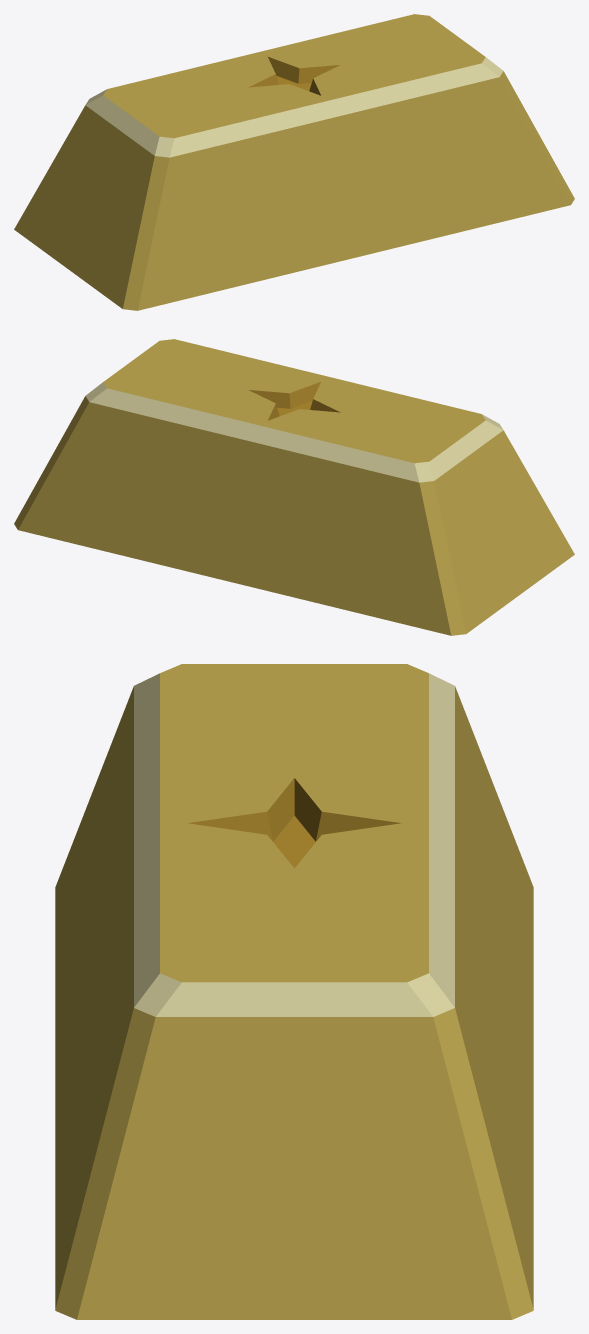
The model's file is gold-ingot-85e62e.glb.
The picture shows the model from 3 angles, top to bottom: view 1: azimuth 30°, elevation 25°; view 2: azimuth 150°, elevation 25°; view 3: azimuth 270°, elevation 25°; orthographic projection. The views are drawn at different scales.
Visible parts, largest first — view 1: ingot; view 2: ingot; view 3: ingot.
Boxes of the visible parts, left/top/right/bottom form: ingot: left=14, top=14, right=574, bottom=310; ingot: left=14, top=339, right=574, bottom=635; ingot: left=55, top=664, right=533, bottom=1319.
Size of the model in its own units: 0.24 by 0.07 by 0.11.
